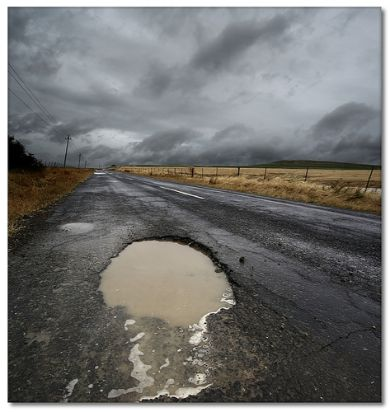pothole: (93, 231, 241, 330)
